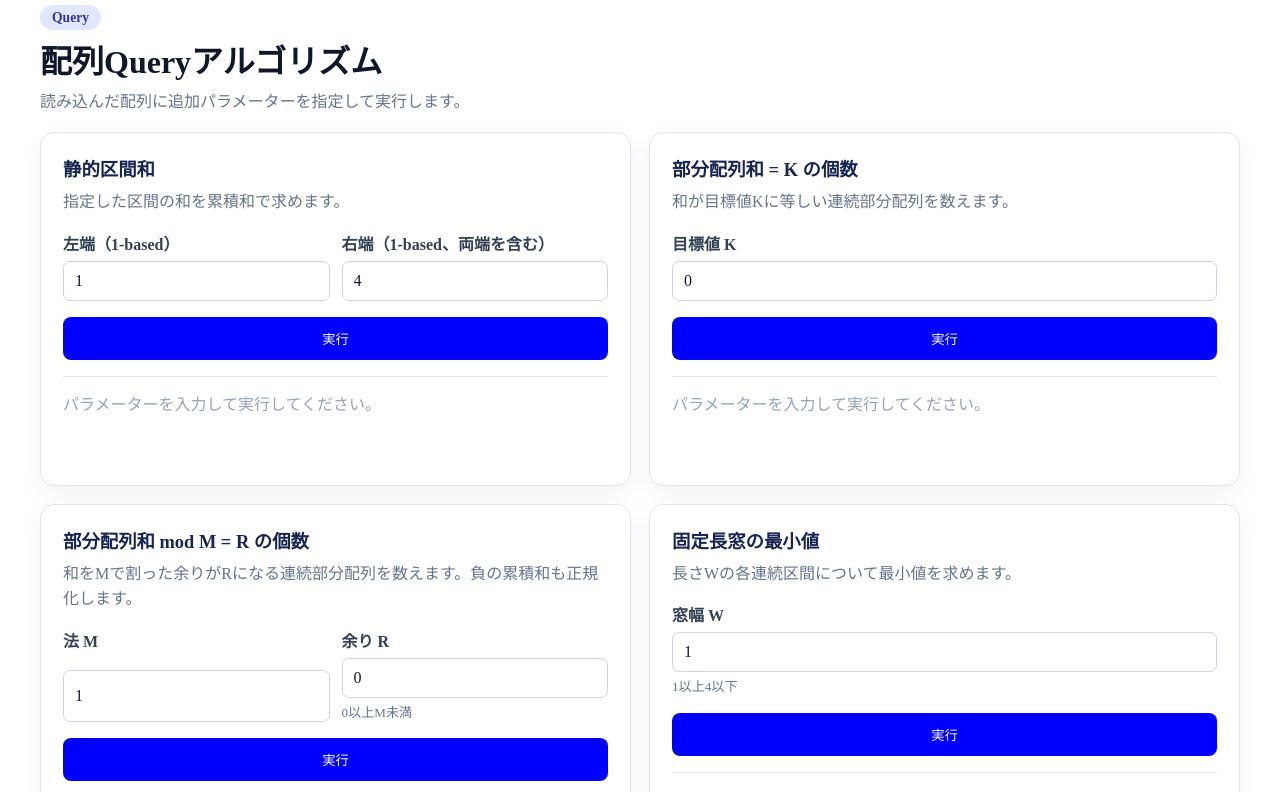
Scenario: ArrayQueryAlgorithms › converts a 1-based inclusive range to a 0-based half-open payload
Replace the text in the number field labelled "左端（1-based）" with "2" at (196, 281), box [63,261,330,301]
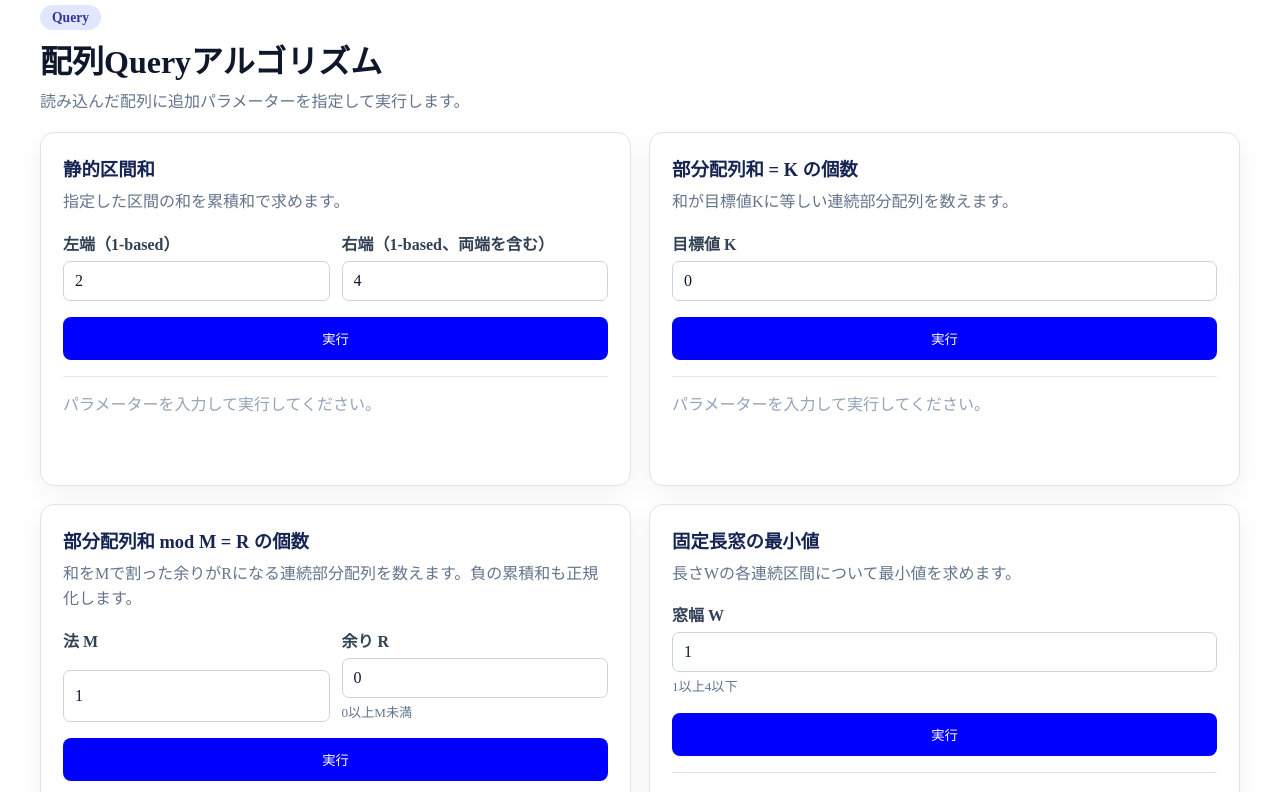
Replace the text in the number field labelled "右端（1-based、両端を含む）" with "3" at (475, 281), box [342,261,608,301]
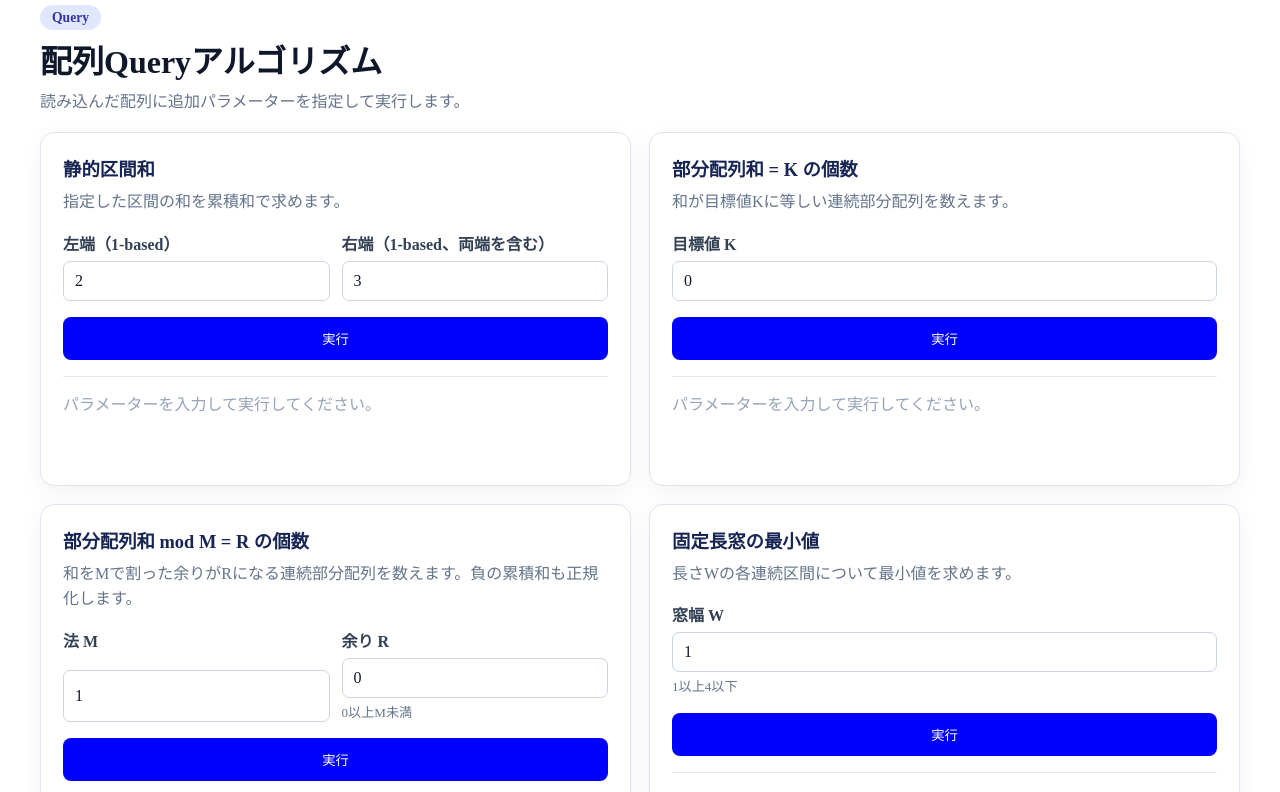
Click the button "実行" below "左端（1-based）".
click(336, 338)  # box [63,317,608,360]
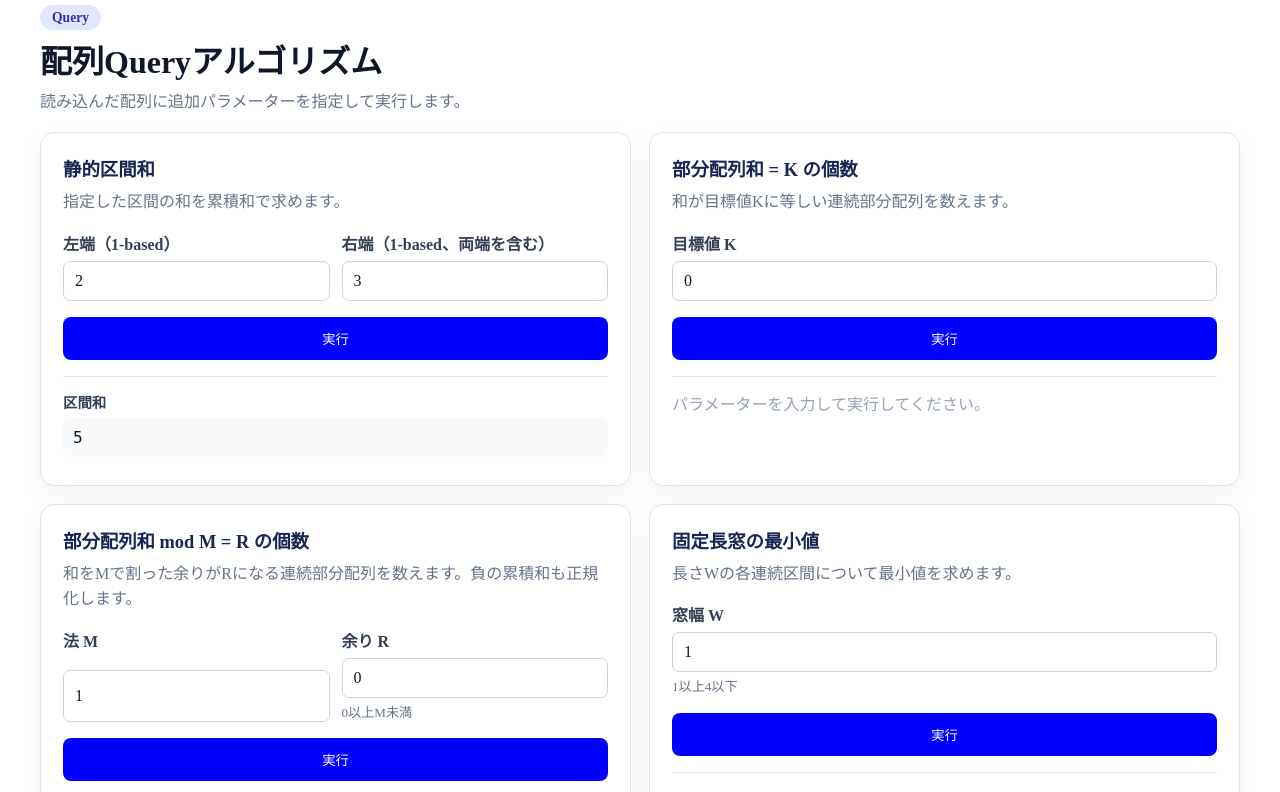
Check: the text "5" is shown, box [63,418,608,457]
